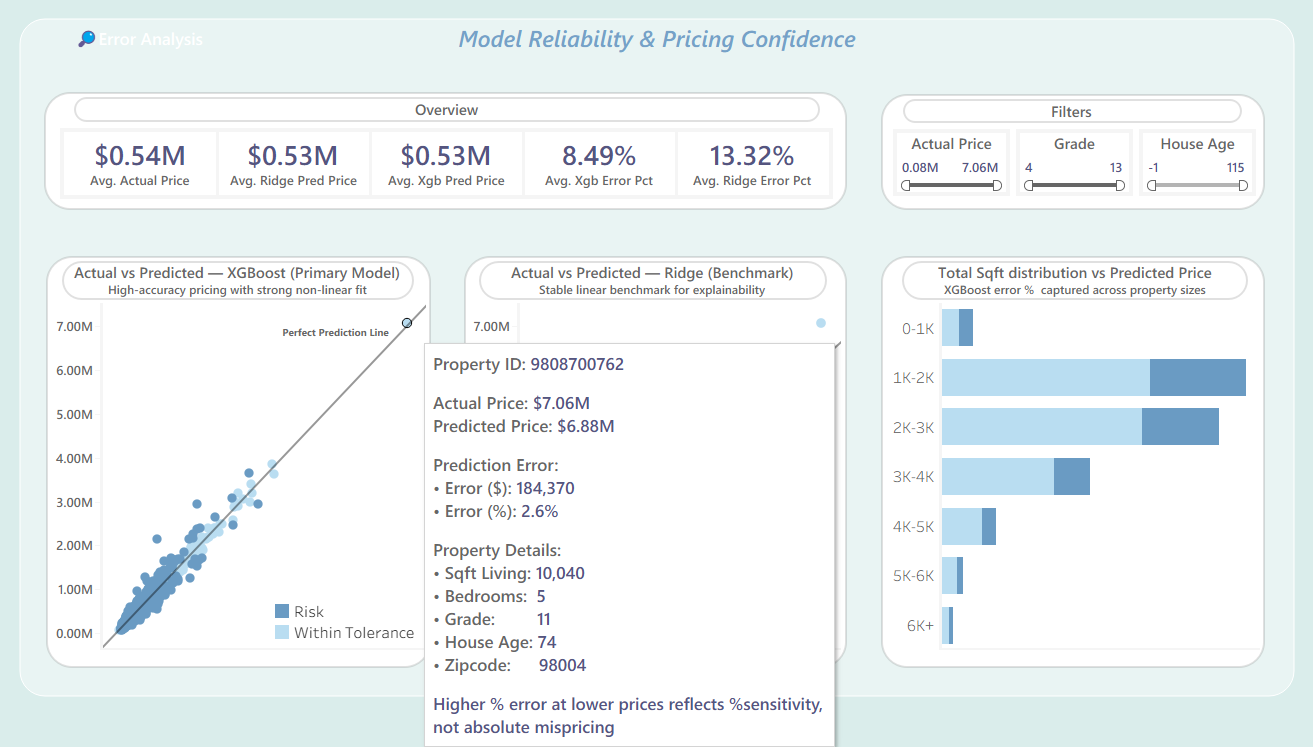

The page's visual inventory and layout, read from the dashboard file:
{"tool":"tableau","page":{"name":"Model Reliability & Pricing Confidence","canvas":[1000,1000],"units":"permille","ordinal":1},"visuals":[{"type":"worksheet","title":"Ex-Back","mark":"Automatic","box":[0,0,1000,1000]},{"type":"text","box":[47.4,27.8,902.3,47.2]},{"type":"dashboard-object","box":[54.1,33.3,109.8,38.9]},{"type":"filter","title":"Actual vs Predicted — XGBoost","param":"[federated.0pb6tqq0hun84y1cwjt1z028dbxy].[none:actual_price:qk]","box":[674.4,175,91,98.6]},{"type":"filter","title":"Actual vs Predicted — XGBoost","param":"[federated.0pb6tqq0hun84y1cwjt1z028dbxy].[none:grade:qk]","box":[766.9,175,91,98.6]},{"type":"filter","title":"Ex-Back","param":"[federated.0pb6tqq0hun84y1cwjt1z028dbxy].[none:house_age:qk]","box":[859.4,175,91,98.6]},{"type":"worksheet","title":"KPI Tiles","mark":"Automatic","box":[49.6,176.4,581.2,98.6]},{"type":"blank","box":[166.9,176.4,2.3,97.2]},{"type":"blank","box":[281.9,176.4,2.3,97.2]},{"type":"blank","box":[397,176.4,2.3,97.2]},{"type":"blank","box":[512,176.4,2.3,97.2]},{"type":"worksheet","title":"Actual vs Predicted — XGBoost","mark":"Automatic","rows":["actual_price"],"cols":["xgb_pred_price"],"box":[43.6,419.4,281.2,481.9]},{"type":"worksheet","title":"Actual vs Predicted — Ridge","mark":"Automatic","rows":["actual_price"],"cols":["ridge_pred_price"],"box":[357.1,419.4,279.7,481.9]},{"type":"worksheet","title":"Total Sqft vs Predicted Price","mark":"Bar","rows":["Calculation_0555552130994176"],"cols":["xgb_pred_price"],"box":[671.4,419.4,280.4,481.9]},{"type":"text","box":[214.3,438.9,85.7,41.7]},{"type":"legend","title":"Total Sqft vs Predicted Price","param":"[federated.0pb6tqq0hun84y1cwjt1z028dbxy].[none:Calculation_0458520059084800:nk]","box":[209,833.3,112.8,58.3]}]}

Visuals, with their boxes on the dashboard's canvas, which has no fixed pixel size, in thousandths of its width and height (x1, y1, x2, y2). These are canvas units, not pixel positions in the 1313x747 screenshot, which may show the page scaled, cropped or inside an application window:
"Ex-Back" worksheet: x1=0 y1=0 x2=1000 y2=1000
text: x1=47 y1=28 x2=950 y2=75
dashboard-object: x1=54 y1=33 x2=164 y2=72
"Actual vs Predicted — XGBoost" filter: x1=674 y1=175 x2=765 y2=274
"Actual vs Predicted — XGBoost" filter: x1=767 y1=175 x2=858 y2=274
"Ex-Back" filter: x1=859 y1=175 x2=950 y2=274
"KPI Tiles" worksheet: x1=50 y1=176 x2=631 y2=275
blank: x1=167 y1=176 x2=169 y2=274
blank: x1=282 y1=176 x2=284 y2=274
blank: x1=397 y1=176 x2=399 y2=274
blank: x1=512 y1=176 x2=514 y2=274
"Actual vs Predicted — XGBoost" worksheet: x1=44 y1=419 x2=325 y2=901
"Actual vs Predicted — Ridge" worksheet: x1=357 y1=419 x2=637 y2=901
"Total Sqft vs Predicted Price" worksheet (Bar marks): x1=671 y1=419 x2=952 y2=901
text: x1=214 y1=439 x2=300 y2=481
"Total Sqft vs Predicted Price" legend: x1=209 y1=833 x2=322 y2=892
